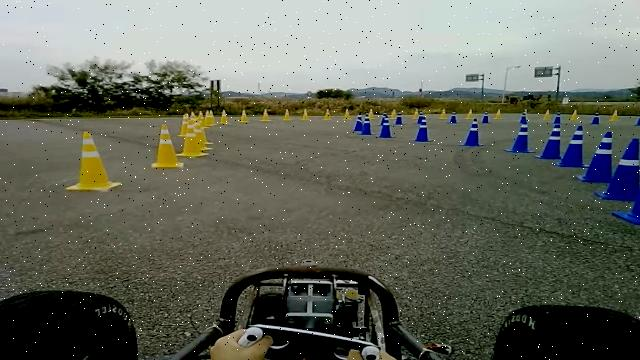blue cone: (596, 138, 640, 200), (577, 132, 615, 182), (554, 125, 590, 167), (612, 173, 640, 225), (504, 112, 537, 153), (542, 121, 563, 159), (459, 119, 486, 146), (410, 119, 434, 142), (378, 118, 396, 138), (361, 114, 374, 136)
yellow cone: (66, 131, 122, 191), (151, 123, 185, 168), (178, 133, 208, 157), (194, 129, 211, 150), (178, 114, 194, 136), (204, 110, 215, 126), (219, 109, 230, 124), (260, 108, 272, 121), (282, 108, 294, 120), (240, 109, 250, 123), (301, 108, 311, 120), (323, 108, 332, 120), (343, 108, 352, 120)
